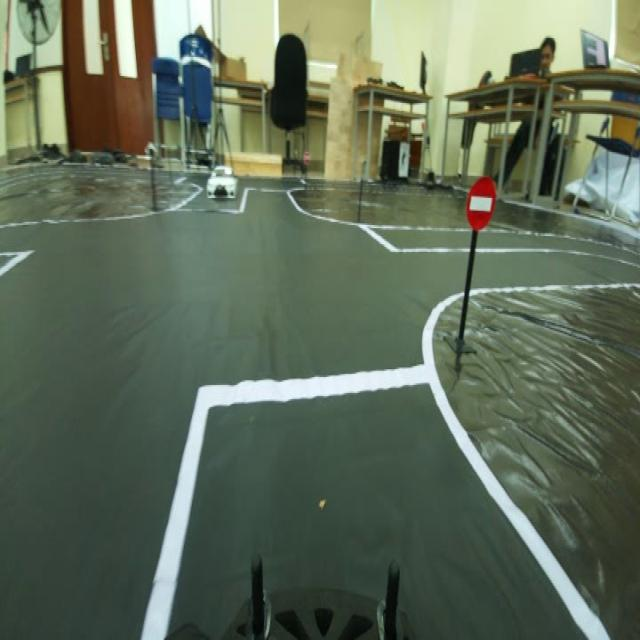no_entry: (456, 170, 500, 234)
